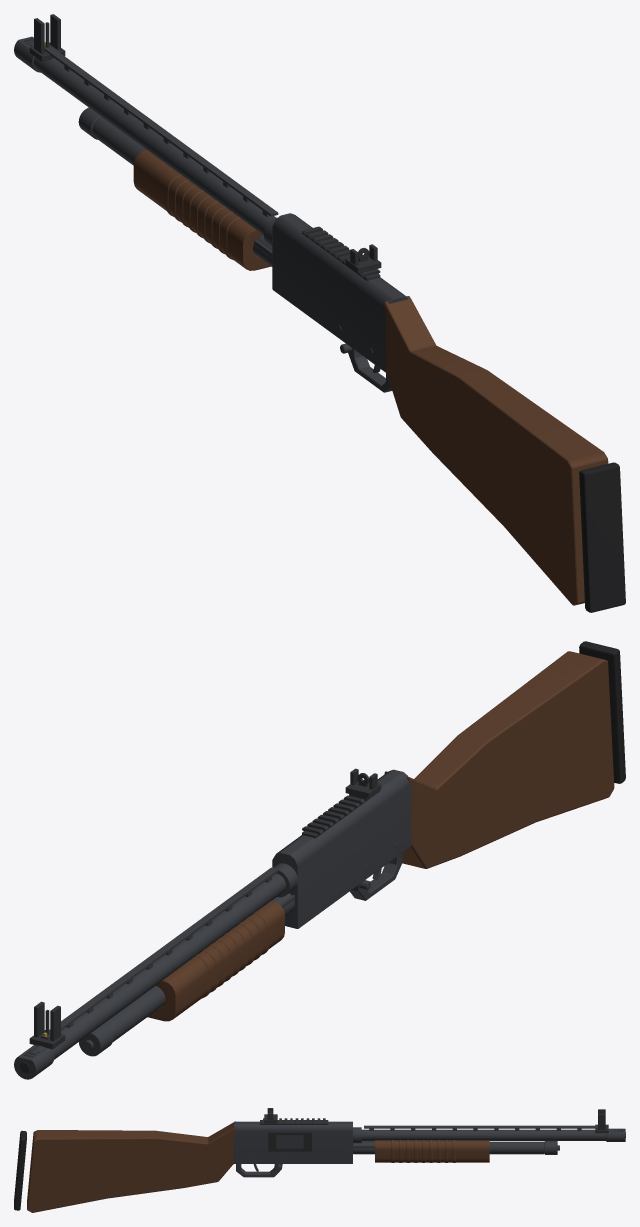
Rendered from wpn_plowman_12.glb.
The picture shows the model from 3 angles, top to bottom: view 1: azimuth 30°, elevation 25°; view 2: azimuth 150°, elevation 25°; view 3: azimuth 270°, elevation 25°; orthographic projection. The views are drawn at different scales.
Visible parts, largest first — view 1: Stock, Receiver, Barrel, StockPad, Pump, PumpRibs, GhostRing, MagTube, TopRail, TriggerGroup; view 2: Stock, Receiver, Barrel, Pump, MagTube, StockPad, GhostRing, PumpRibs, TopRail, TriggerGroup, MuzzleBrake; view 3: Stock, Receiver, Barrel, Pump, MagTube, ReceiverDetails, PumpRibs, StockPad, GhostRing, TriggerGroup, TopRail, MuzzleBrake.
Boxes of the visible parts, bbox=[...] form: Stock: bbox=[384, 296, 608, 605]; Receiver: bbox=[272, 213, 408, 372]; Barrel: bbox=[29, 42, 278, 246]; StockPad: bbox=[579, 462, 625, 612]; Pump: bbox=[133, 150, 270, 270]; PumpRibs: bbox=[165, 173, 240, 259]; GhostRing: bbox=[29, 14, 381, 273]; MagTube: bbox=[78, 107, 272, 266]; TopRail: bbox=[302, 226, 380, 280]; TriggerGroup: bbox=[340, 343, 392, 392]; Stock: bbox=[384, 651, 614, 868]; Receiver: bbox=[272, 769, 411, 928]; Barrel: bbox=[29, 863, 297, 1059]; Pump: bbox=[147, 900, 284, 1021]; MagTube: bbox=[79, 893, 294, 1056]; StockPad: bbox=[579, 641, 625, 783]; GhostRing: bbox=[29, 768, 381, 1049]; PumpRibs: bbox=[195, 911, 269, 998]; TopRail: bbox=[302, 790, 380, 838]; TriggerGroup: bbox=[350, 853, 402, 900]; MuzzleBrake: bbox=[14, 1045, 54, 1079]; Stock: bbox=[27, 1121, 235, 1212]; Receiver: bbox=[233, 1121, 352, 1163]; Barrel: bbox=[353, 1125, 618, 1143]; Pump: bbox=[375, 1140, 489, 1162]; MagTube: bbox=[353, 1141, 559, 1154]; ReceiverDetails: bbox=[247, 1132, 311, 1159]; PumpRibs: bbox=[391, 1140, 455, 1162]; StockPad: bbox=[14, 1130, 26, 1210]; GhostRing: bbox=[264, 1108, 608, 1133]; TriggerGroup: bbox=[236, 1164, 282, 1177]; TopRail: bbox=[260, 1118, 328, 1124]; MuzzleBrake: bbox=[606, 1128, 625, 1141].
Size of the model in its own units: 0.0484 by 0.1968 by 1.12.
